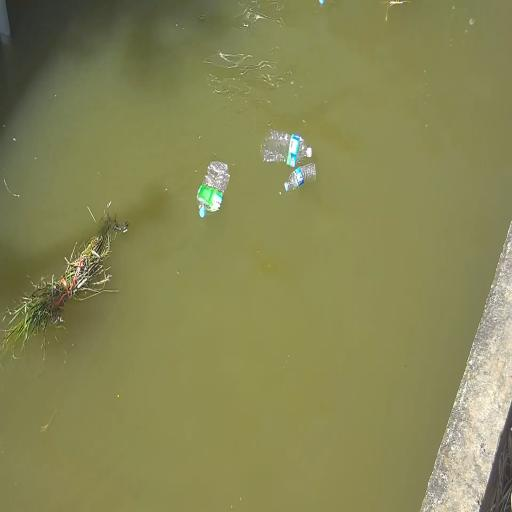plastic: (191, 156, 230, 223), (260, 123, 314, 167), (278, 162, 319, 193), (319, 0, 326, 8)
twig: (16, 199, 118, 348)
